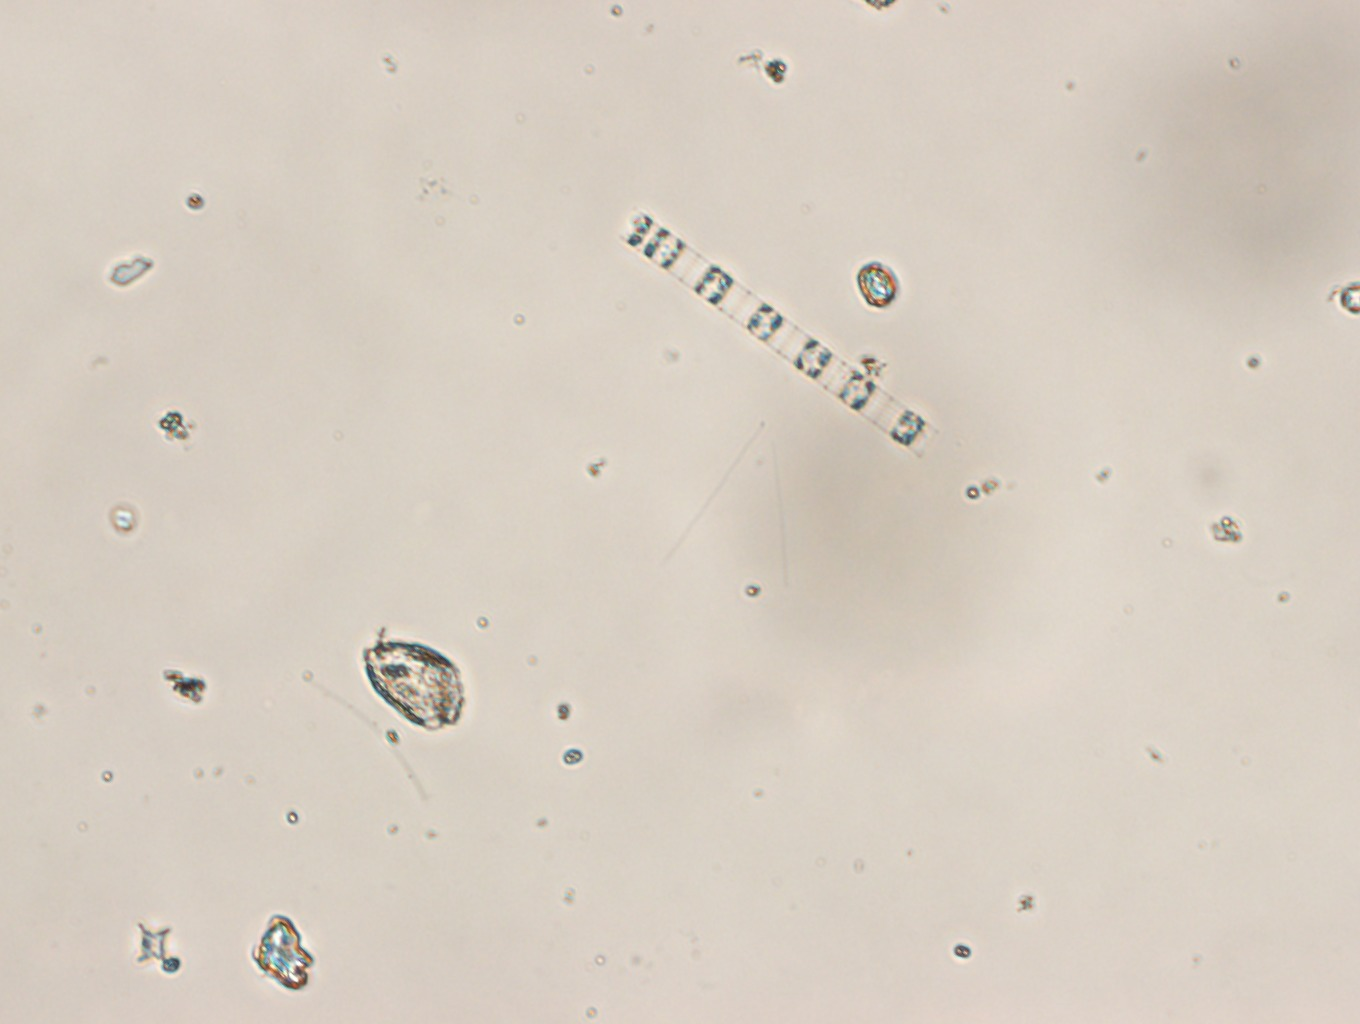skeletonema: (622, 212, 942, 460)
